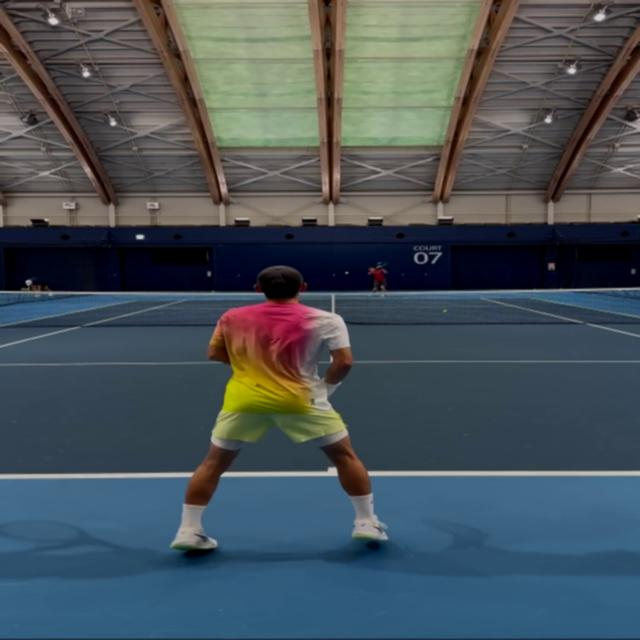tennis_ball: (346, 272, 348, 274)
